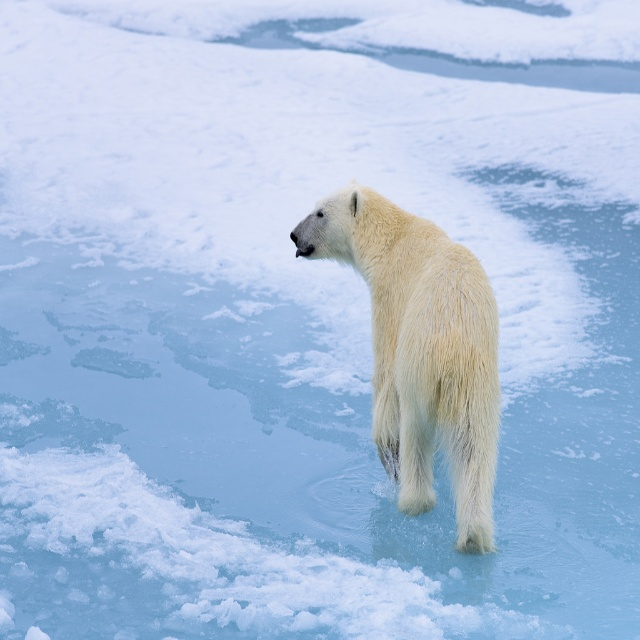Bear: (286, 180, 499, 557)
